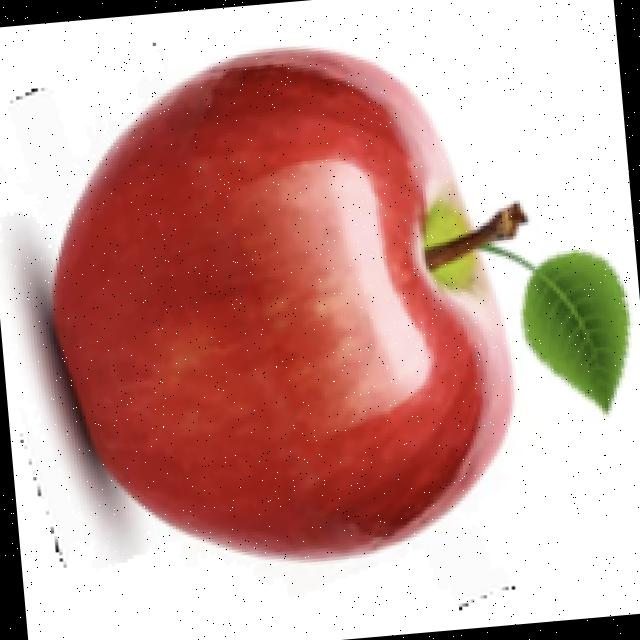apple: (0, 40, 635, 596)
